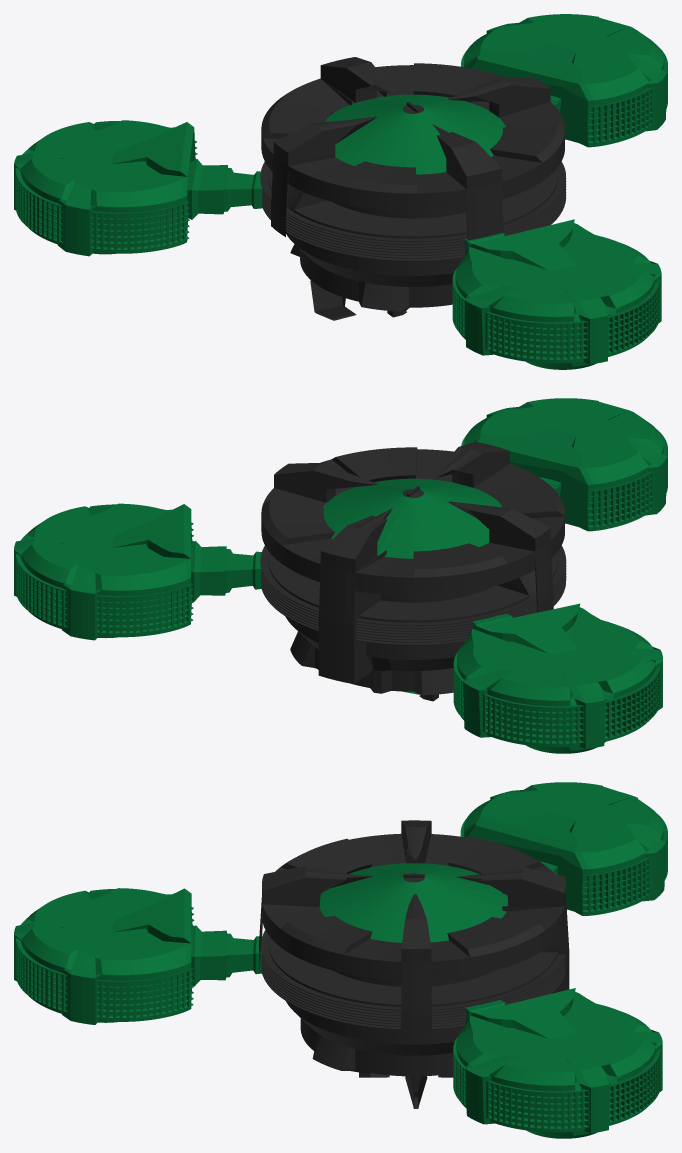
The model's file is nave.obj.
3 renders of one model, top to bottom at view 1: azimuth 30°, elevation 25°; view 2: azimuth 150°, elevation 25°; view 3: azimuth 270°, elevation 25°, orthographic.
Parts seen in each view (by area): view 1: Cylinder.001, Cylinder; view 2: Cylinder.001, Cylinder; view 3: Cylinder.001, Cylinder.
Boxes of the visible parts, left/top/right/bottom form: Cylinder.001: left=14, top=14, right=667, bottom=369; Cylinder: left=260, top=57, right=566, bottom=320; Cylinder.001: left=14, top=398, right=667, bottom=753; Cylinder: left=260, top=442, right=566, bottom=701; Cylinder.001: left=14, top=782, right=667, bottom=1138; Cylinder: left=259, top=820, right=569, bottom=1108.
Bounding box in the file's own units: 39.96 × 12.09 × 36.39.
